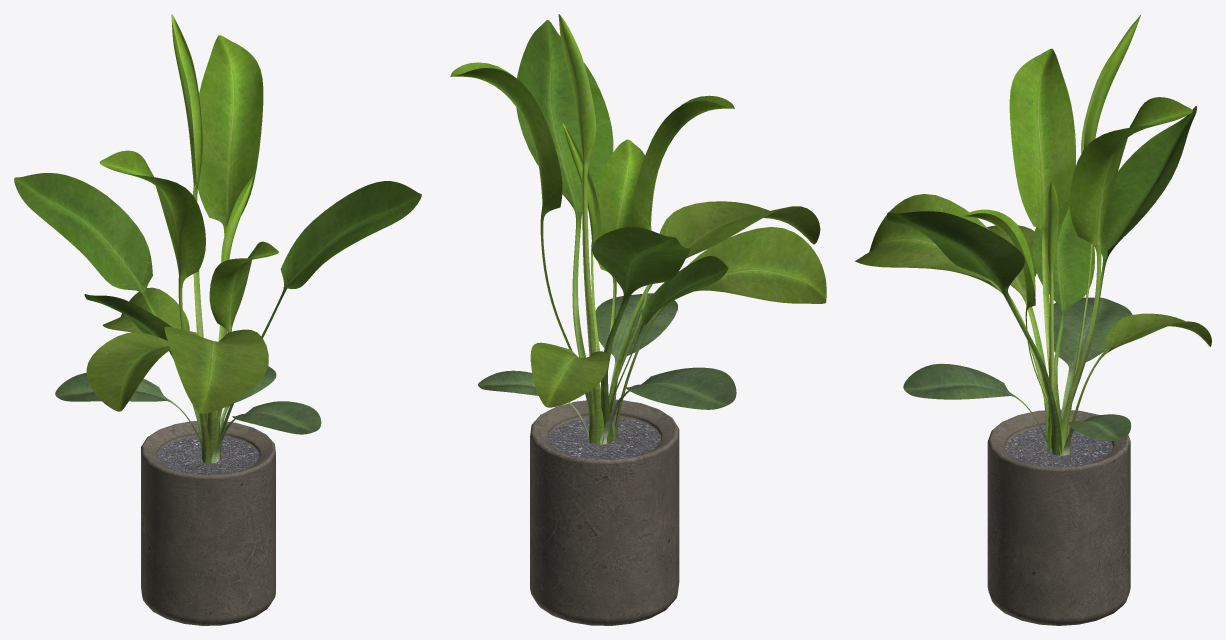
The model's file is rhyzome plant.fbx.
3 renders of one model, left to right at view 1: azimuth 30°, elevation 25°; view 2: azimuth 150°, elevation 25°; view 3: azimuth 270°, elevation 25°, orthographic. The views are drawn at different scales.
Visible parts, largest first — view 1: plant, concrete_pot; view 2: plant, concrete_pot; view 3: plant, concrete_pot.
Part boxes in pixels (box(x1,y1,x2,y2)): plant: box(14, 14, 421, 463); concrete_pot: box(141, 421, 275, 625); plant: box(450, 14, 826, 444); concrete_pot: box(530, 399, 679, 625); plant: box(855, 15, 1211, 455); concrete_pot: box(987, 409, 1130, 625).
Size of the model in its own units: 0.9757 by 1.81 by 0.9984.
Materials: 2 (2 with a texture image).
